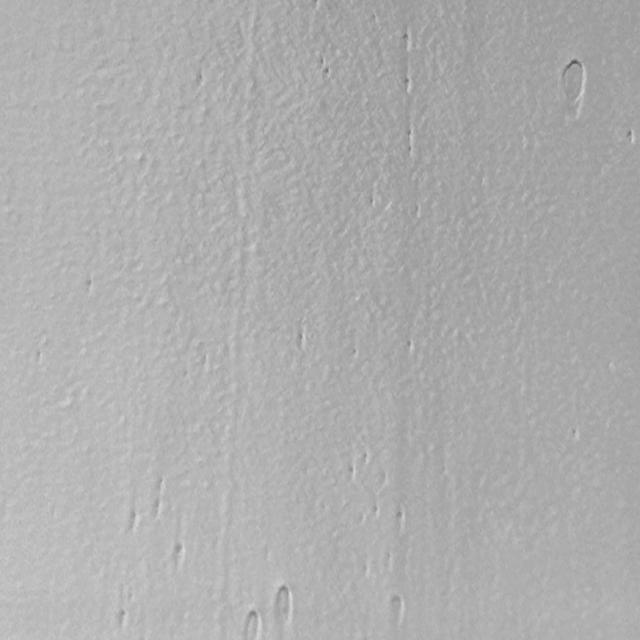pin holes: (555, 56, 589, 118), (272, 584, 297, 630), (241, 607, 265, 639), (387, 596, 409, 628), (171, 541, 189, 569), (292, 328, 310, 352), (125, 509, 142, 534), (80, 276, 98, 299), (114, 606, 131, 630), (392, 508, 408, 532), (402, 127, 416, 154), (398, 31, 415, 53), (191, 69, 208, 91), (400, 75, 415, 96), (624, 126, 638, 148), (367, 193, 381, 211), (360, 448, 372, 468), (404, 338, 417, 356), (378, 469, 387, 493), (347, 345, 359, 362), (384, 552, 394, 571), (323, 65, 335, 80), (153, 498, 160, 520), (310, 0, 322, 11), (157, 478, 165, 492), (372, 503, 379, 518), (349, 465, 356, 479), (359, 512, 366, 524)
